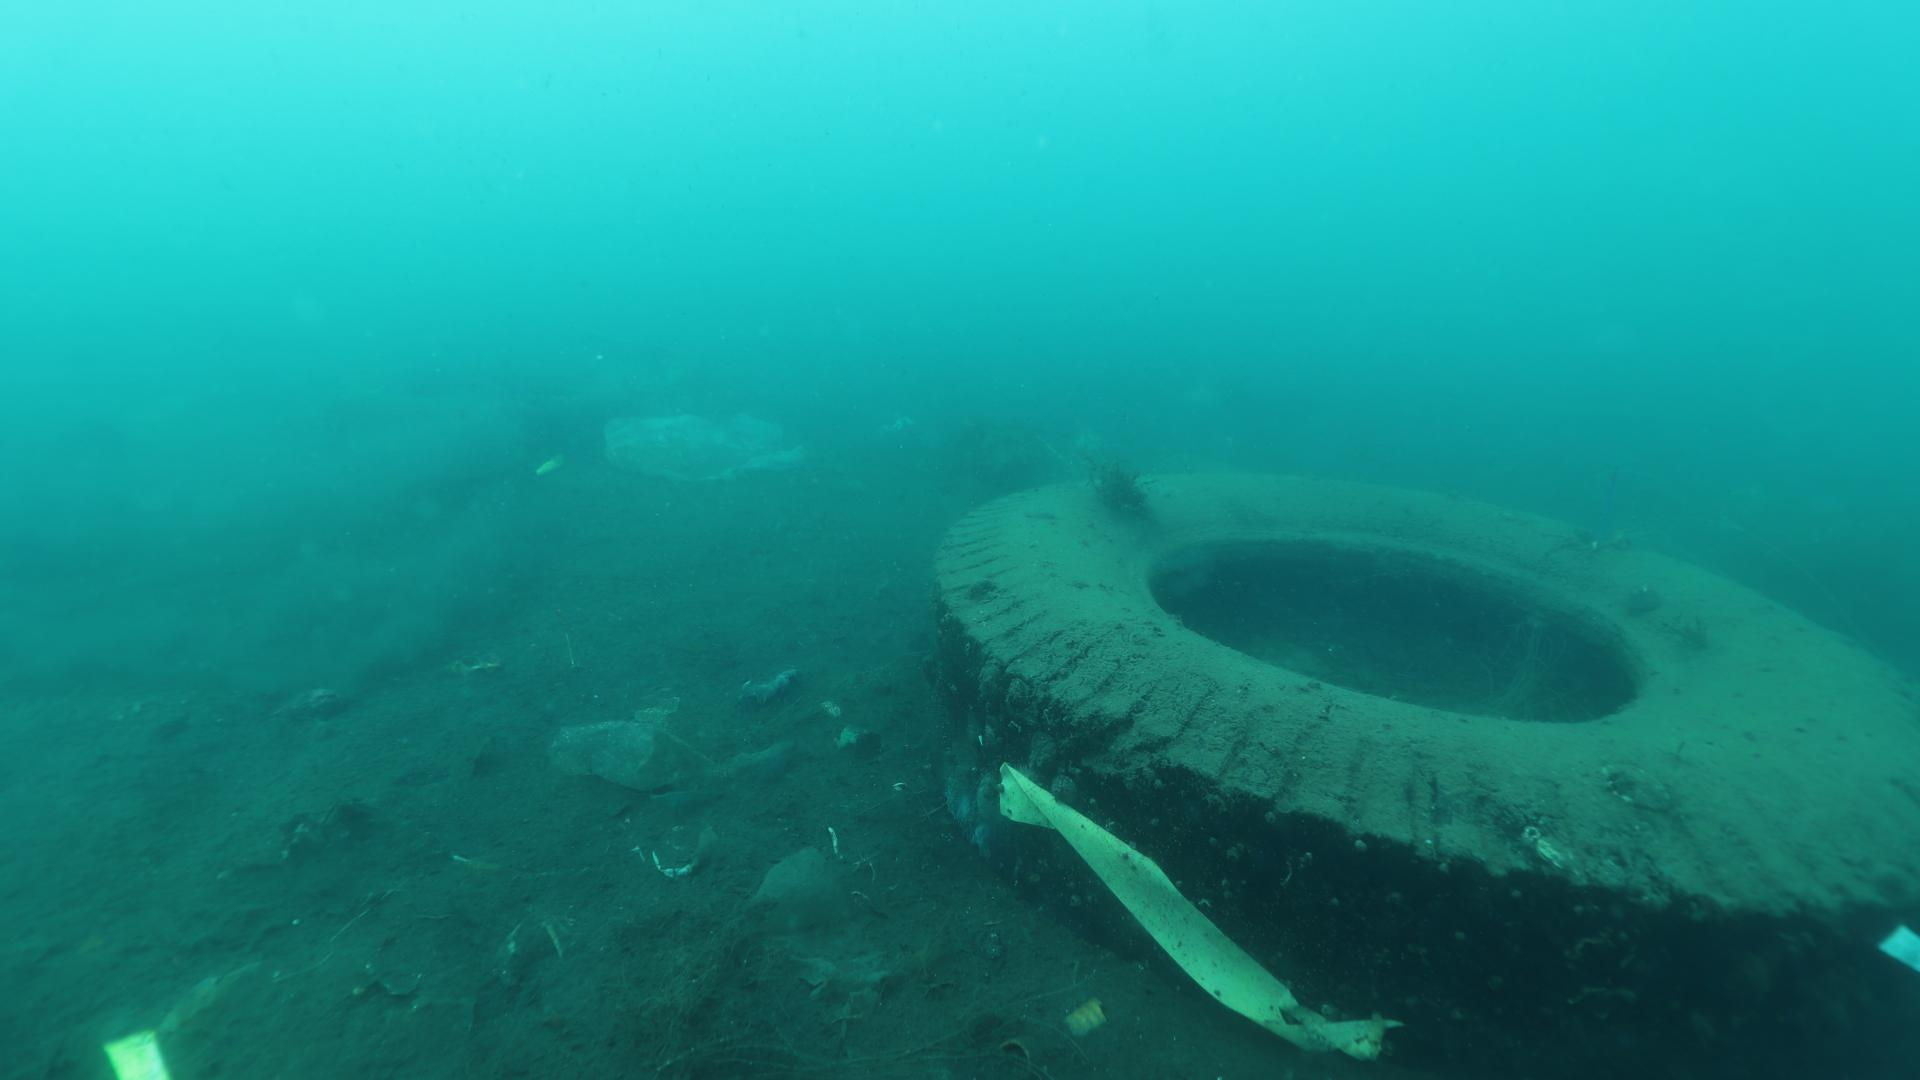tire: (930, 464, 1920, 1080)
